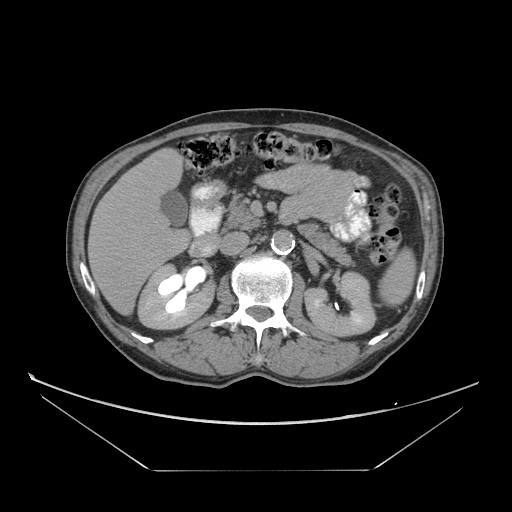left_kidney: (133, 260, 222, 335)
right_kidney: (299, 268, 376, 334)
